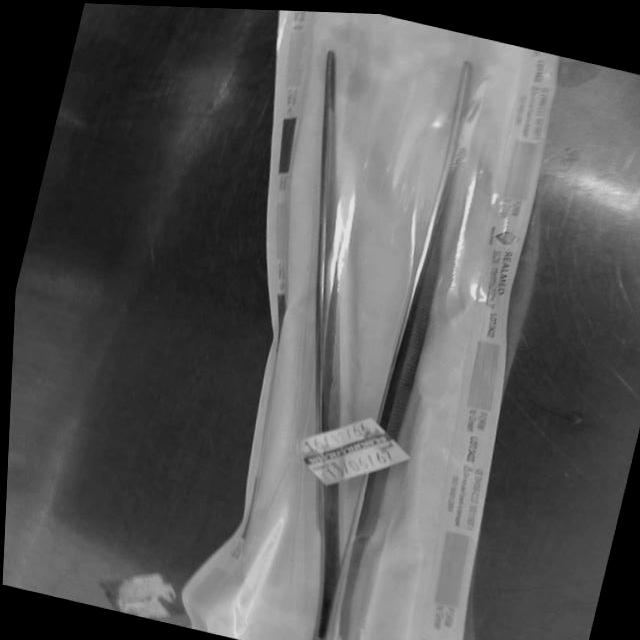Sharps: (179, 26, 335, 638), (317, 58, 475, 640)
